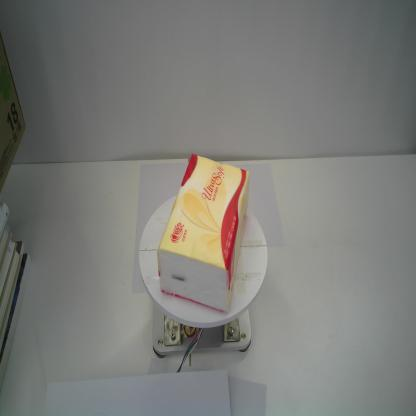Tissue: (155, 149, 252, 316)
